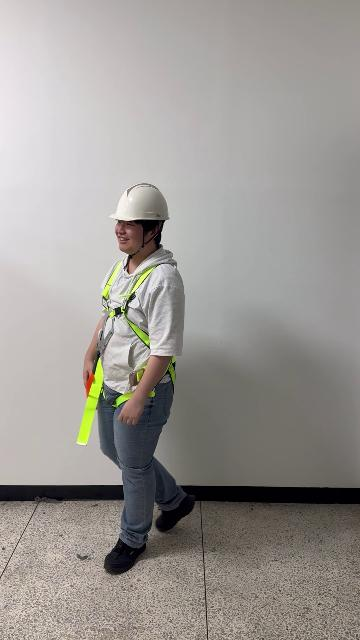helmet_worn: (108, 182, 171, 222)
shoe_not_worn: (103, 538, 146, 573), (156, 493, 195, 531)
vest_worn: (77, 263, 177, 441)
